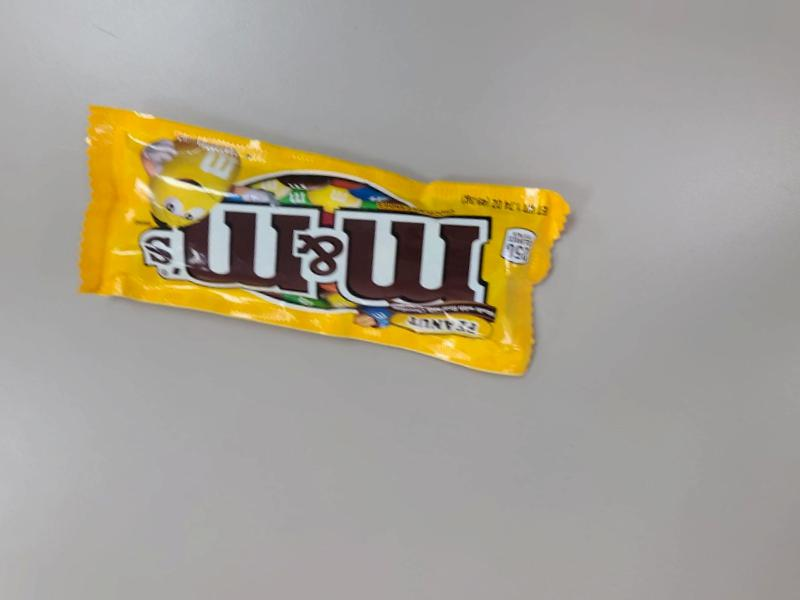m&m: (66, 89, 546, 411)
